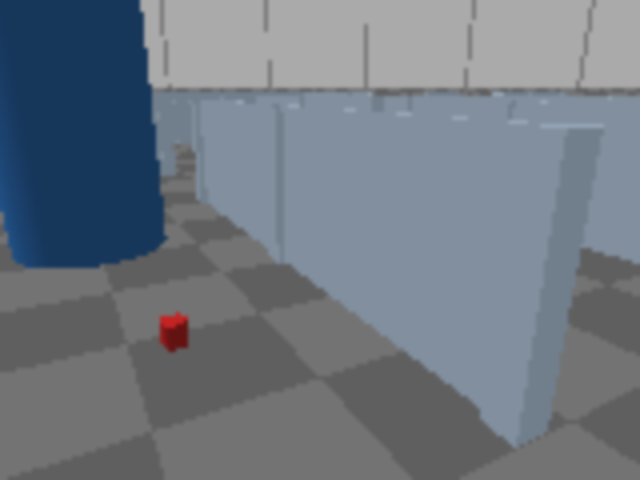puck: (160, 314, 189, 350)
